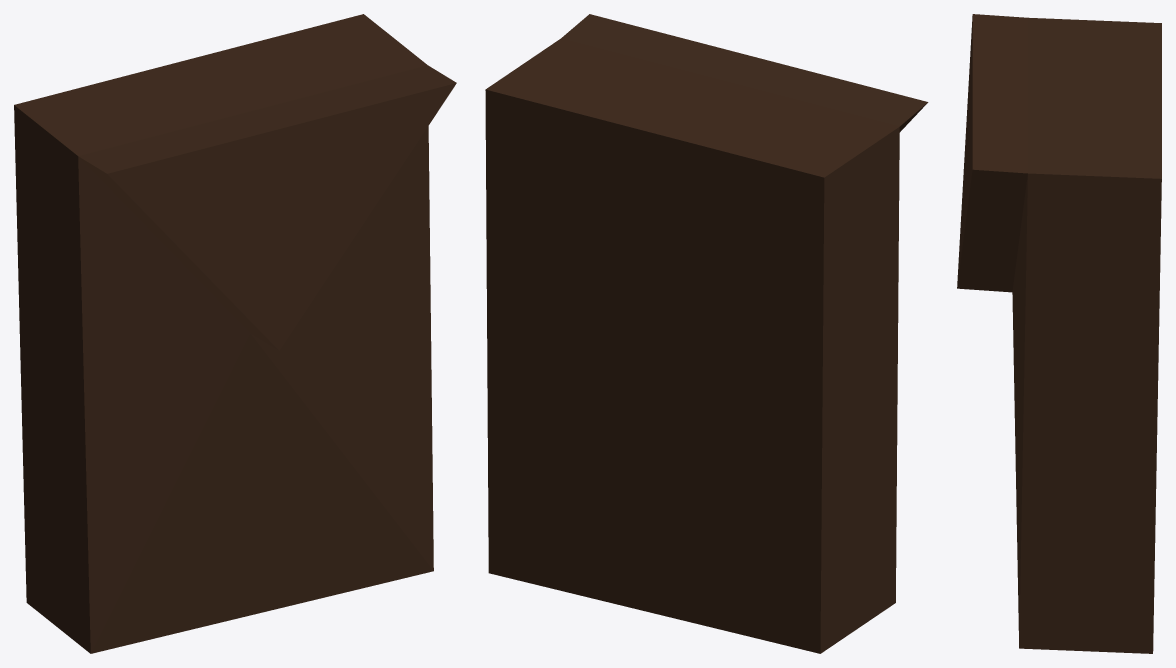
File: Pouch1.fbx
3 views of the same model, side by side, from view 1: azimuth 30°, elevation 25°; view 2: azimuth 150°, elevation 25°; view 3: azimuth 270°, elevation 25° (orthographic). The views are drawn at different scales.
Visible parts, largest first — view 1: Pouch1; view 2: Pouch1; view 3: Pouch1.
Boxes of the visible parts, x1=… form: Pouch1: x1=14, y1=14, x2=456, y2=653; Pouch1: x1=485, y1=14, x2=928, y2=653; Pouch1: x1=957, y1=14, x2=1161, y2=653.
Bounding box in the file's own units: 21.3 × 28.94 × 11.18.
1 material, 1 textured.
